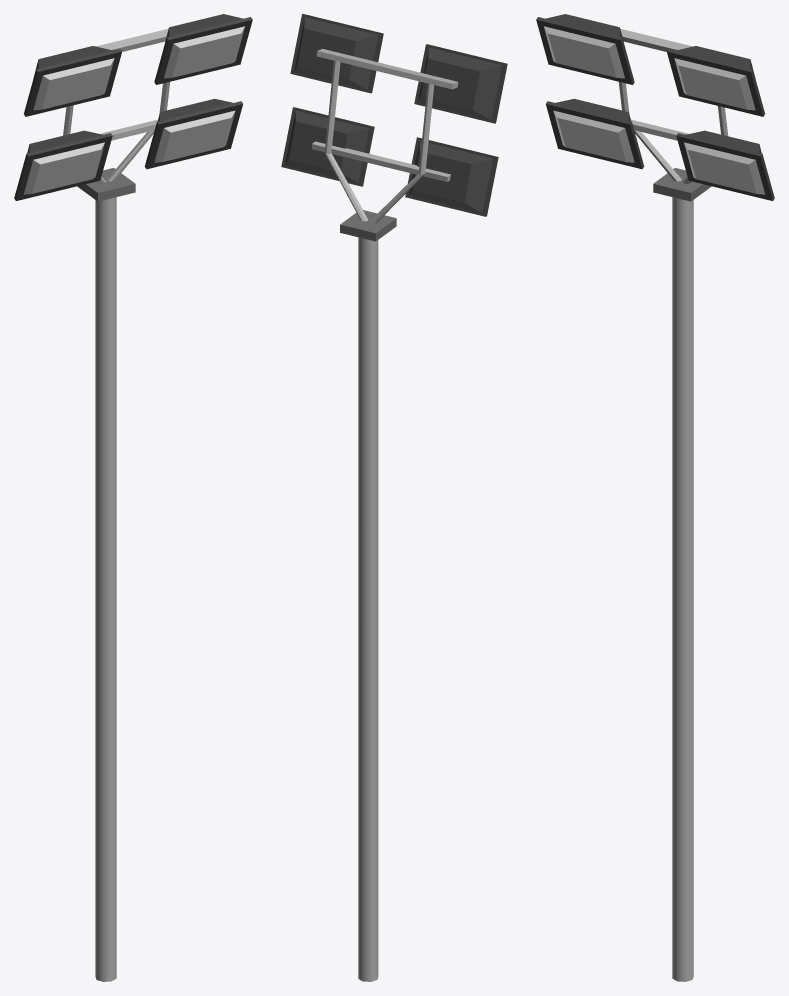
Rendered from Light-02.fbx.
3 views of the same model, side by side, from view 1: azimuth 30°, elevation 25°; view 2: azimuth 150°, elevation 25°; view 3: azimuth 330°, elevation 25° (orthographic). The views are drawn at different scales.
Parts seen in each view (by area): view 1: Light-02, Light; view 2: Light-02; view 3: Light-02, Light.
Boxes of the visible parts, <box> form: Light-02: <box>14,14,252,981</box>; Light: <box>23,26,244,194</box>; Light-02: <box>281,14,507,981</box>; Light-02: <box>536,14,774,981</box>; Light: <box>544,26,765,194</box>.
Size of what is drawn, in the model's own units: 2.05 by 8.78 by 0.8365.
